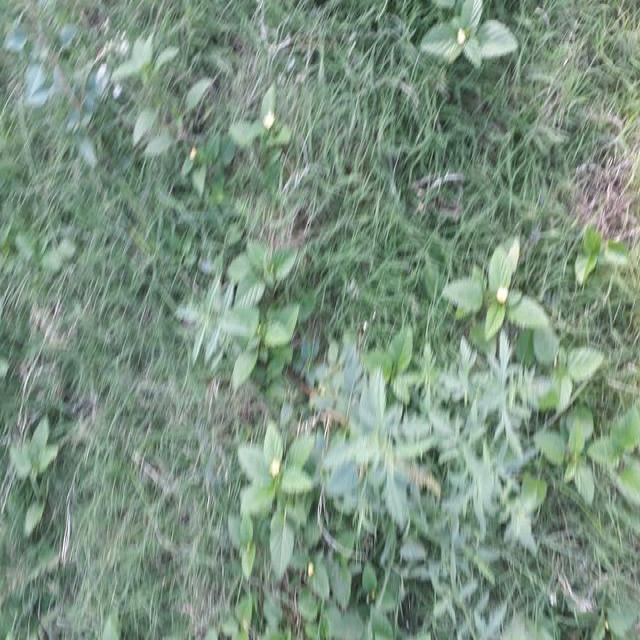weed: (0, 0, 633, 311), (0, 324, 234, 639)
